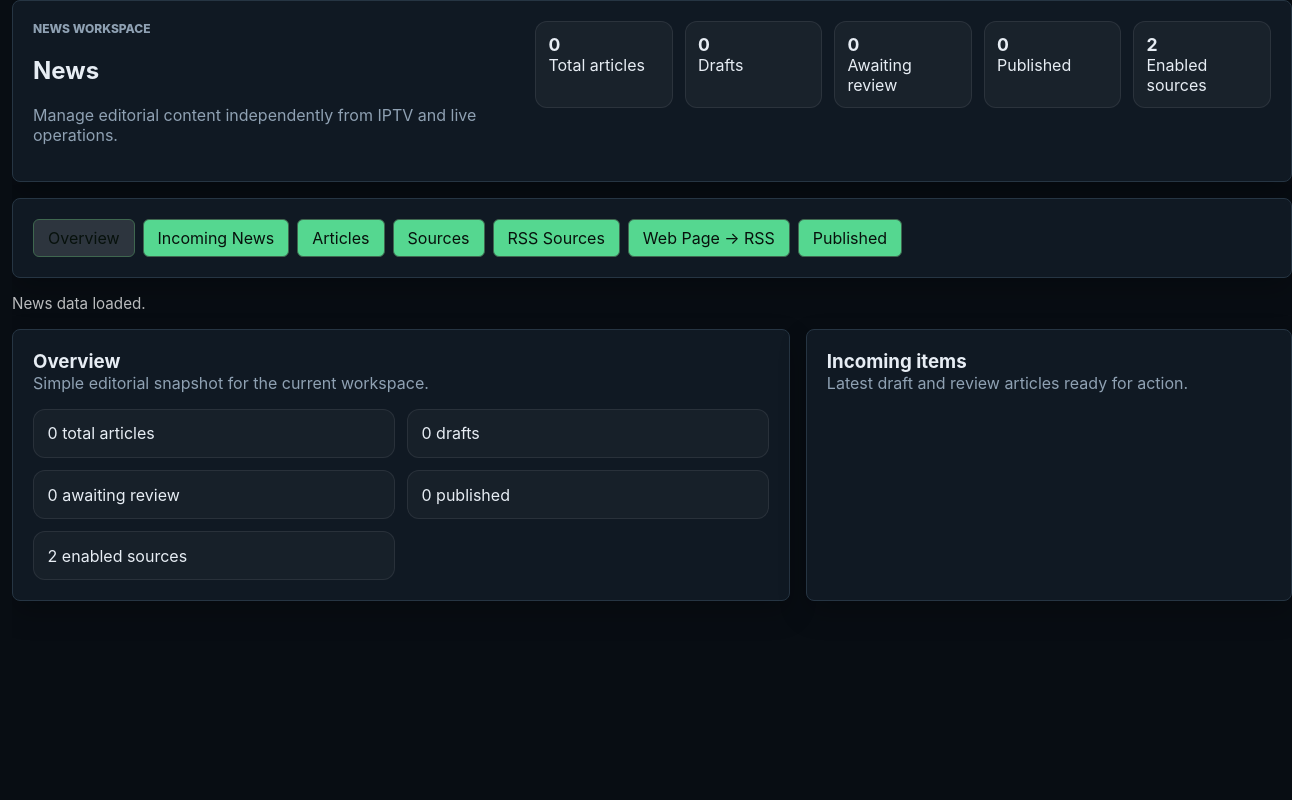
Test: rendered Web Page RSS shows the browser-rendered crawler tier
Check: the text "News data loaded." is shown, box [12, 294, 146, 313]
Click the button "Web Page → RSS": (709, 238) [628, 219, 790, 257]
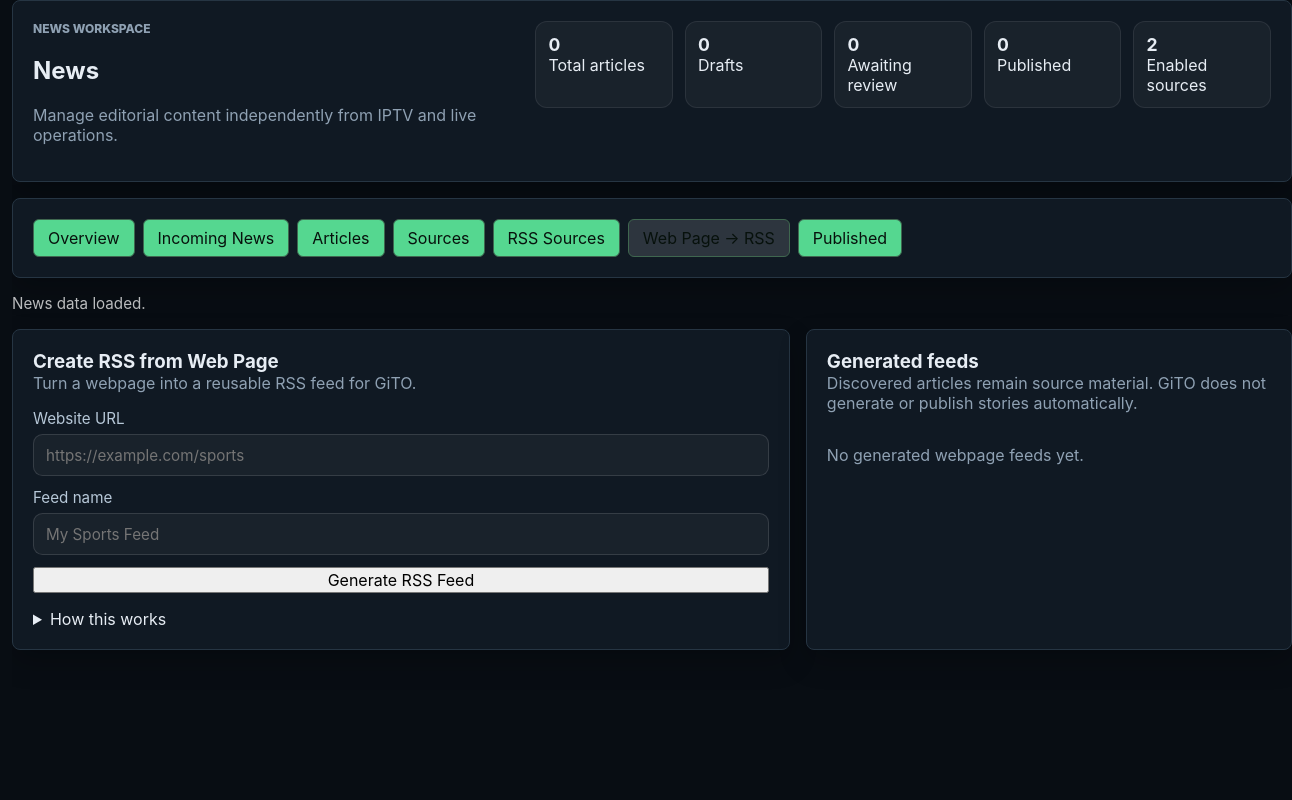
In the field with placeholder "https://example.com/sports": (401, 455) [33, 434, 769, 476], type "https://example.com/javascript-page"
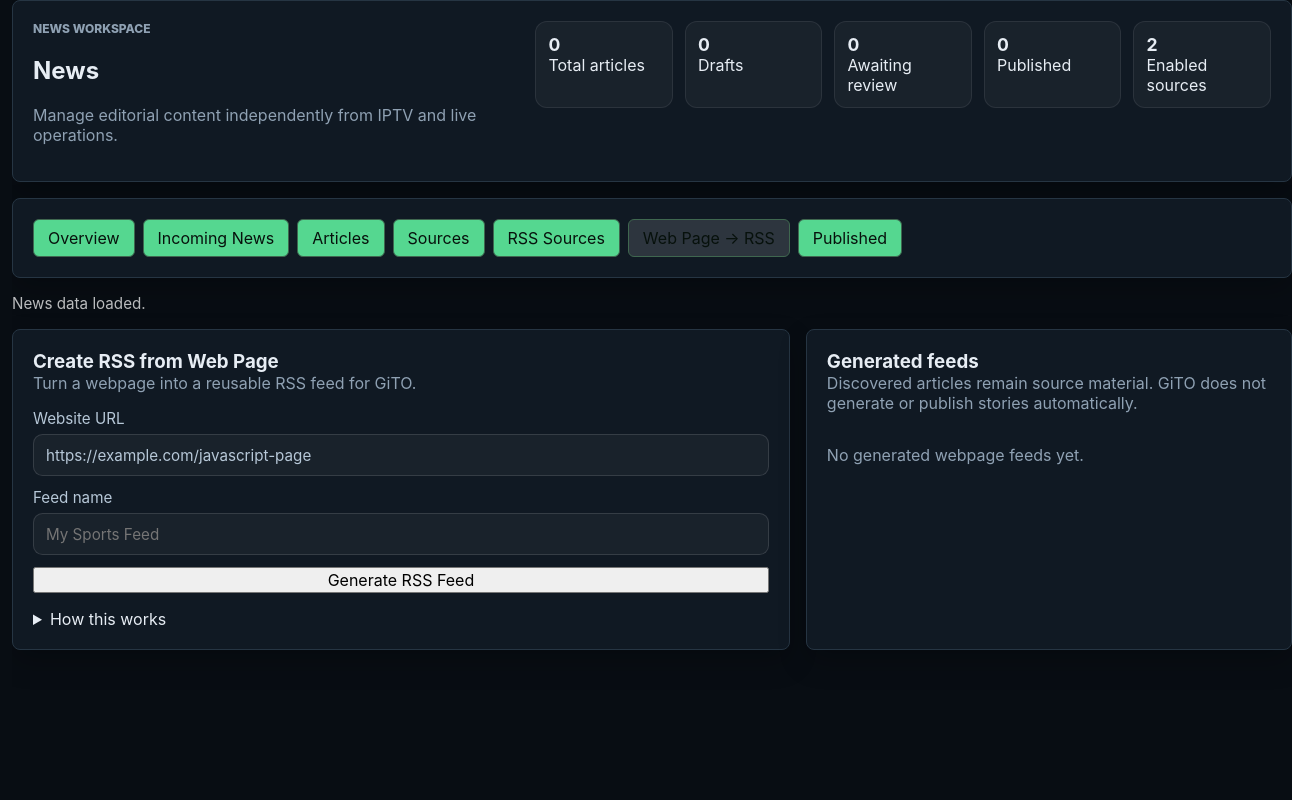
In the field with placeholder "My Sports Feed": (401, 534) [33, 513, 769, 555], type "Rendered Feed"
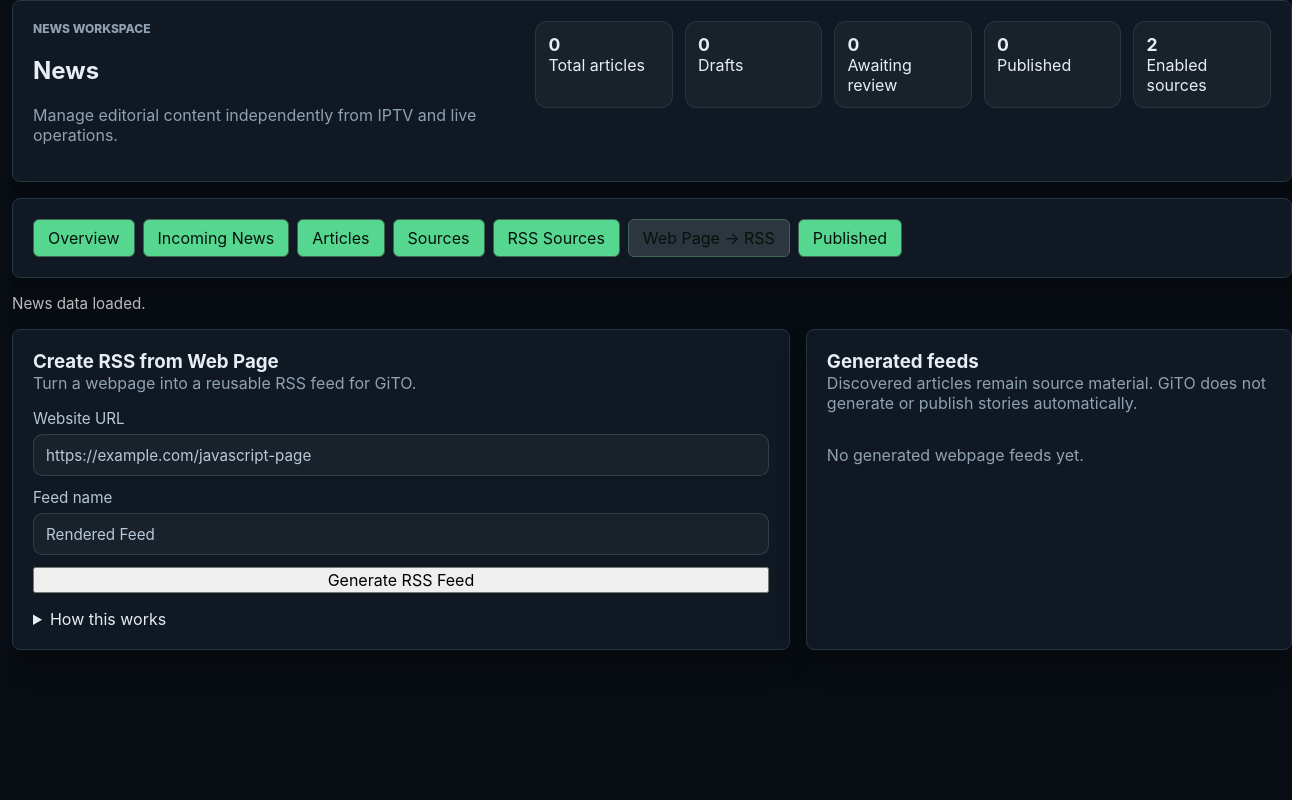
Submit the form "Generate RSS Feed", box [33, 409, 769, 593]
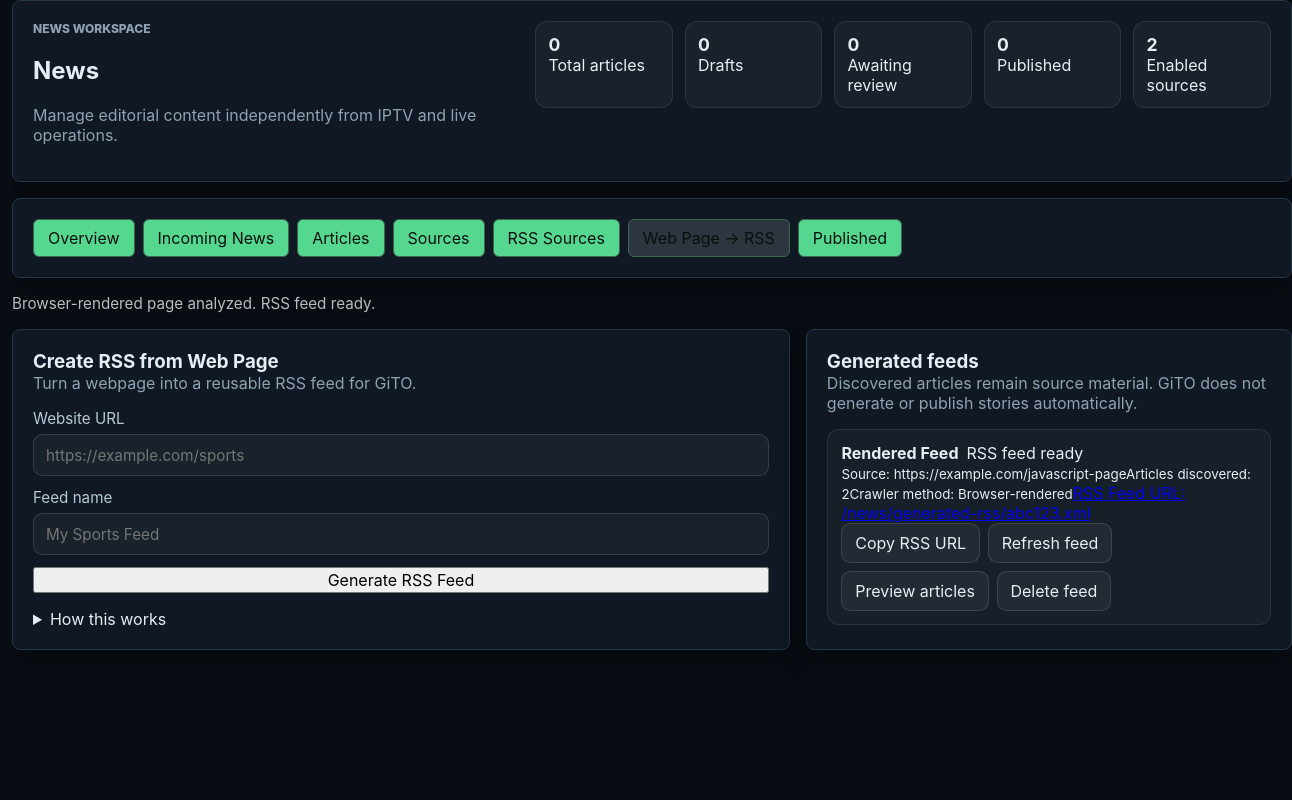
Check: the button named "Analyzing webpage…" is shown, box [33, 567, 769, 593]
Check: the text "Crawler method: Browser-rendered" is shown, box [850, 486, 1073, 502]
